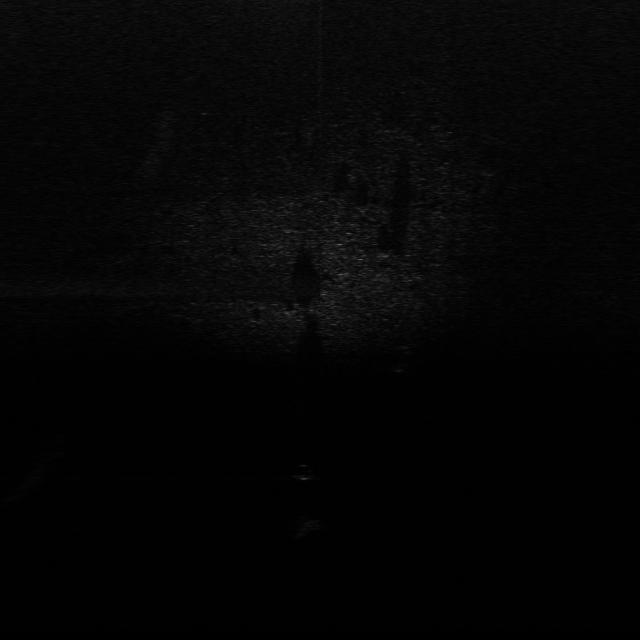ball: (291, 462, 318, 481)
square cage: (288, 514, 322, 533)
tyre: (390, 343, 420, 373)
